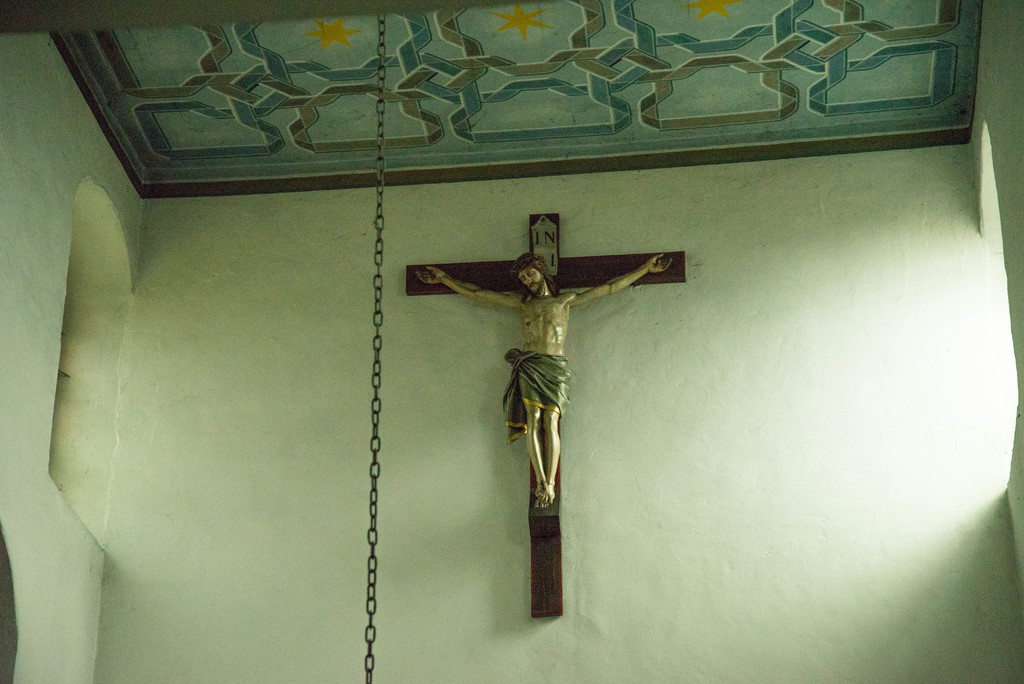person: (418, 251, 673, 513)
